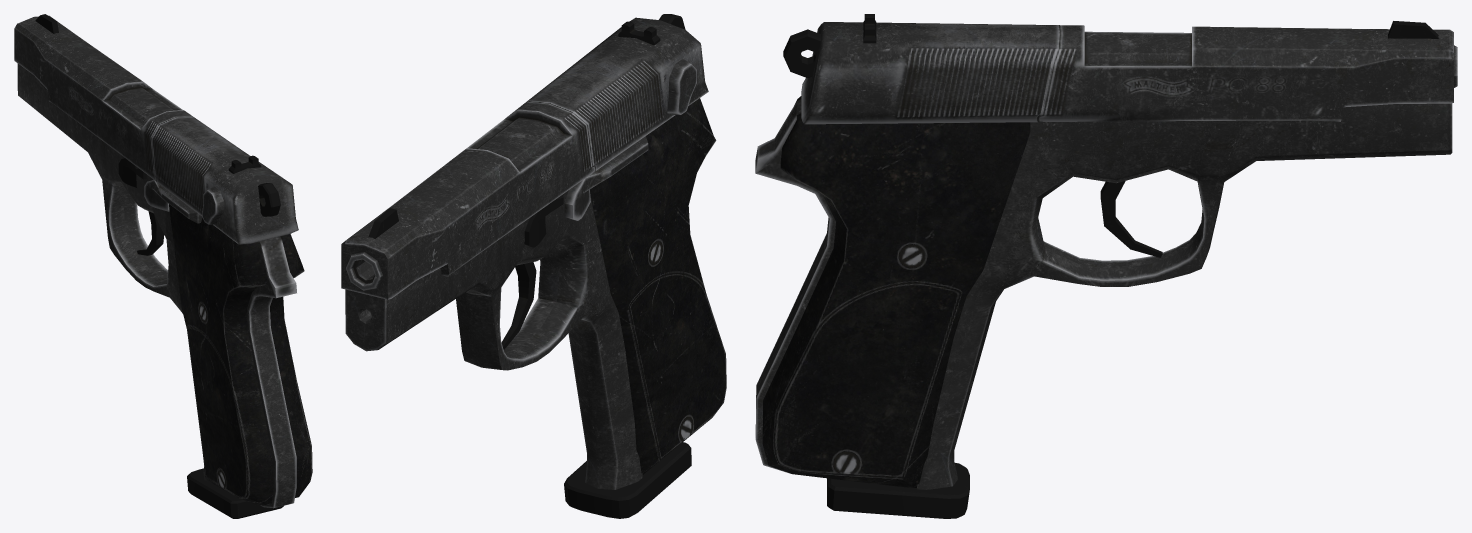
The model's file is walther_p88.glb.
The picture shows the model from 3 angles, left to right: view 1: azimuth 30°, elevation 25°; view 2: azimuth 150°, elevation 25°; view 3: azimuth 270°, elevation 25°; orthographic projection. The views are drawn at different scales.
Parts seen in each view (by area): view 1: walther_p88; view 2: walther_p88; view 3: walther_p88.
Part boxes in pixels (bbox=[...]): walther_p88: bbox=[14, 14, 312, 518]; walther_p88: bbox=[341, 14, 726, 518]; walther_p88: bbox=[755, 14, 1457, 518].
Bounding box in the file's own units: 0.4265 × 2.05 × 2.7.
Materials: 1 (1 with a texture image).
